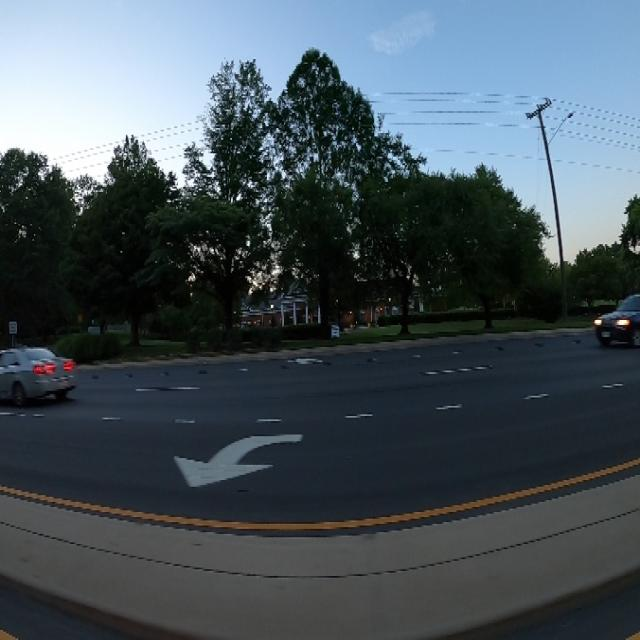cars: (0, 333, 81, 423), (590, 285, 640, 355)
